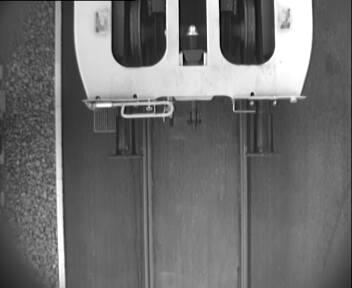Copy of wagon_scan: (102, 1, 281, 72)
